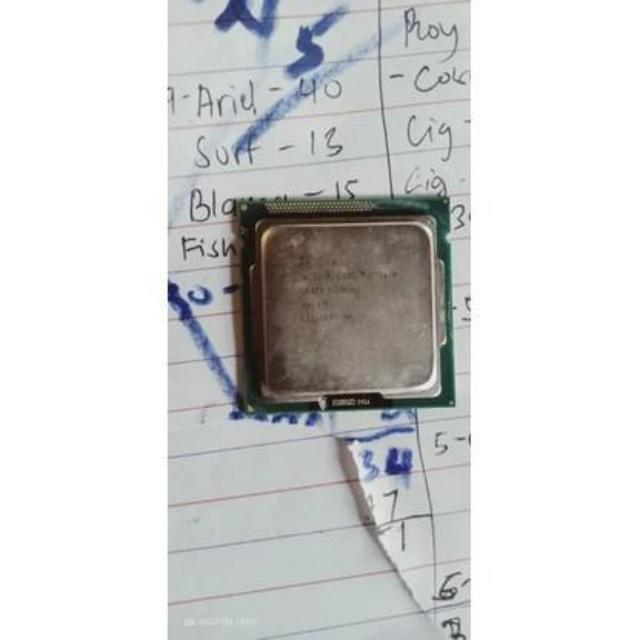CPU: (240, 198, 457, 408)
